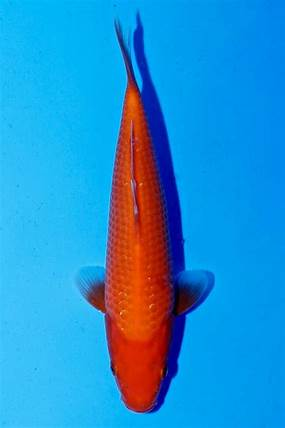red: (73, 18, 214, 414)
